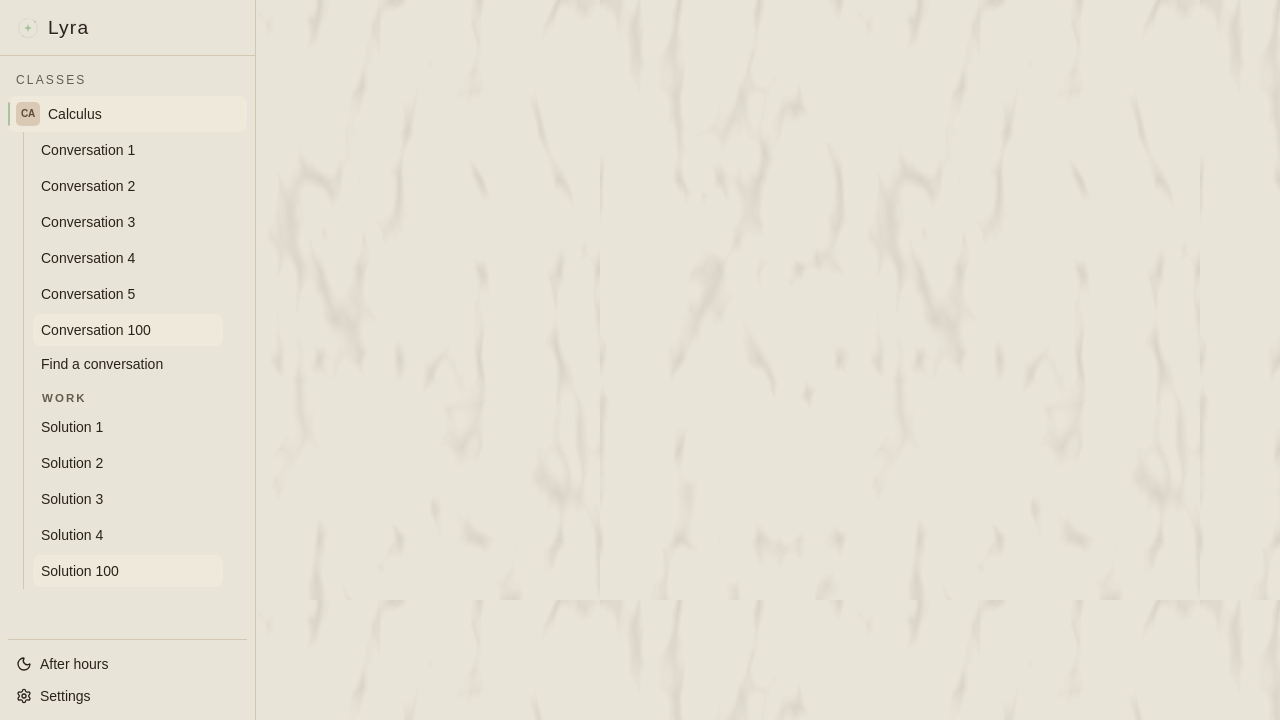
searches and pages history without expanding a hundred rows
Step 1. Click the button "Find a conversation" → coordinates (102, 364), box [33,350,171,378]
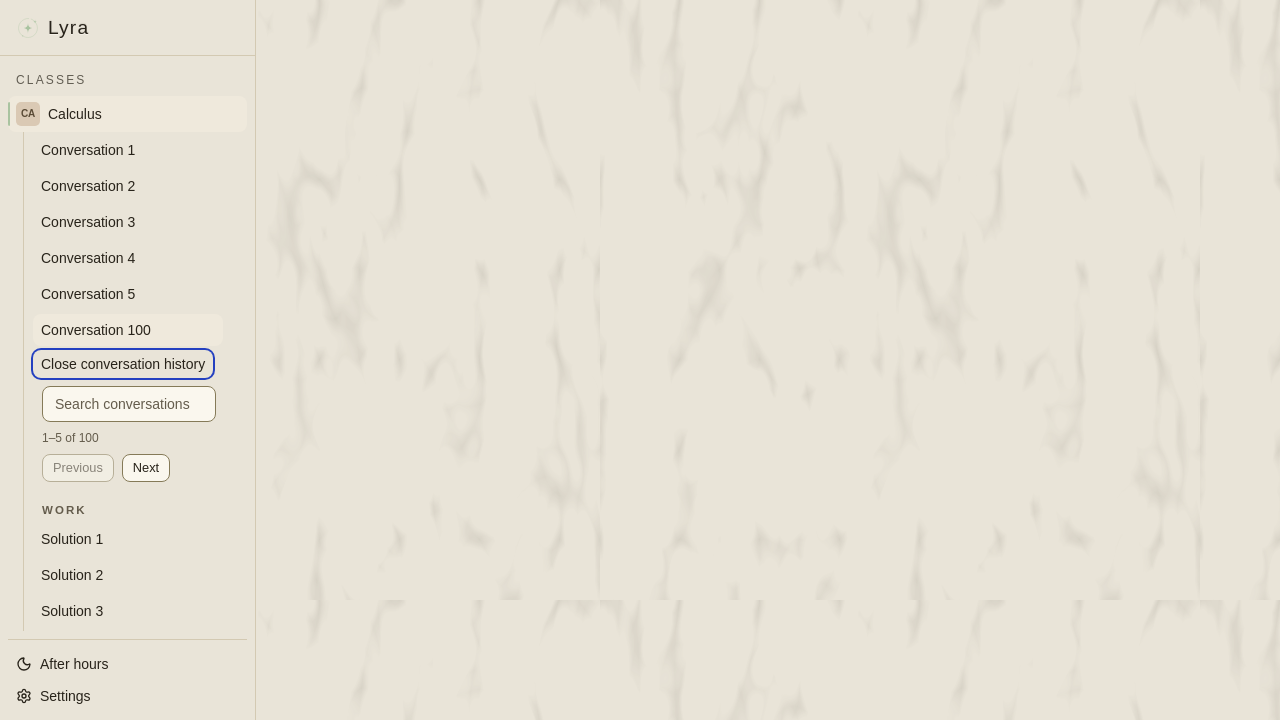
Step 2. Click the button "Next" → coordinates (146, 468), box [122,454,170,482]
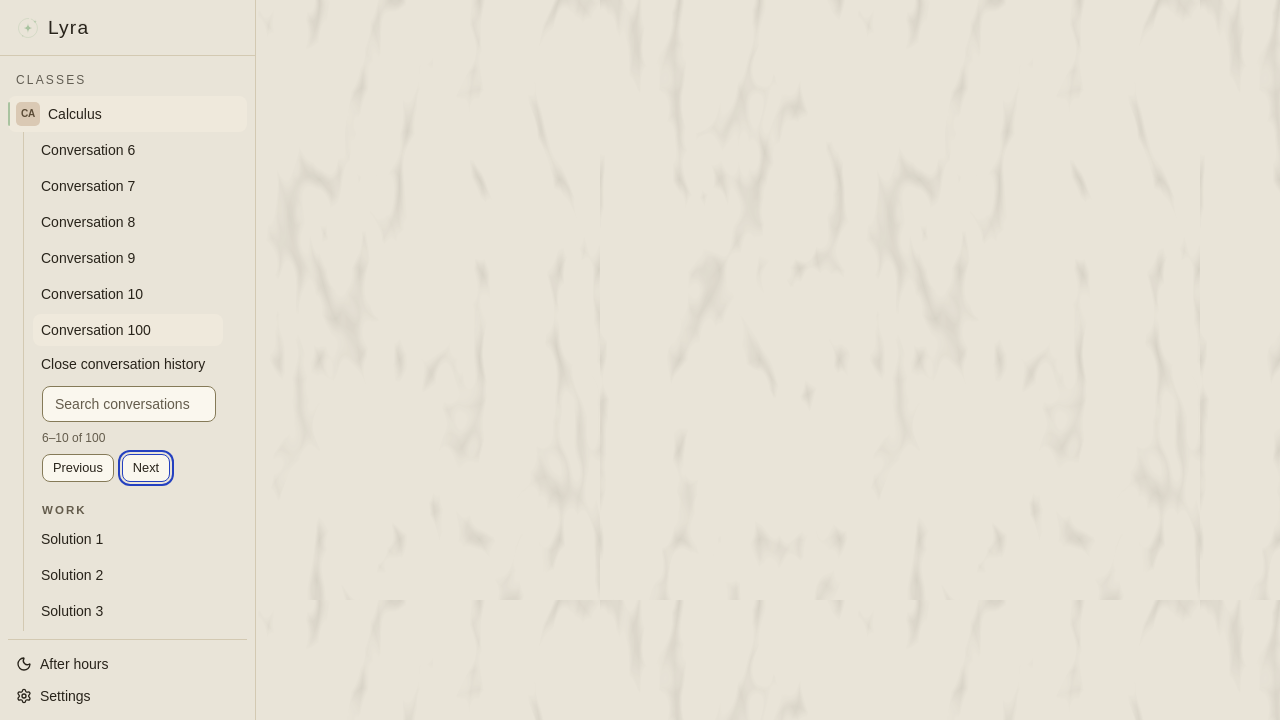
Expected: the number of links "Conversation 6" is 6, [41,142,135,158]; [41,178,135,194]; [41,214,135,230]; [41,250,135,266]; [41,286,143,302]; [33,314,223,346]
Expected: the link "Conversation 6" is shown, [41,142,135,158]
Step 3. Type "Conversation 99" into the field labelled "Search conversations" → coordinates (129, 404), box [42,386,216,422]
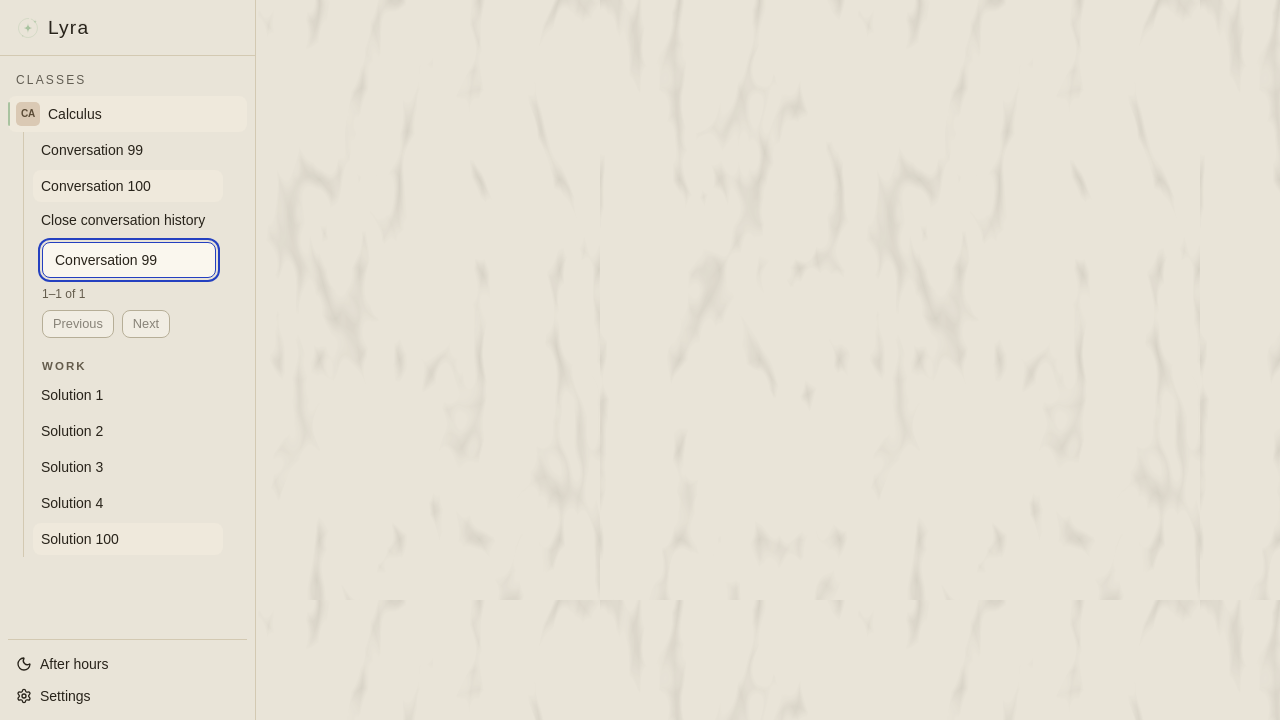
Expected: the link "Conversation 99" is shown, [41,142,143,158]
Expected: the number of links "Conversation 99" is 2, [41,142,143,158]; [33,170,223,202]
Expected: the button "Next" is disabled, [122,310,170,338]
